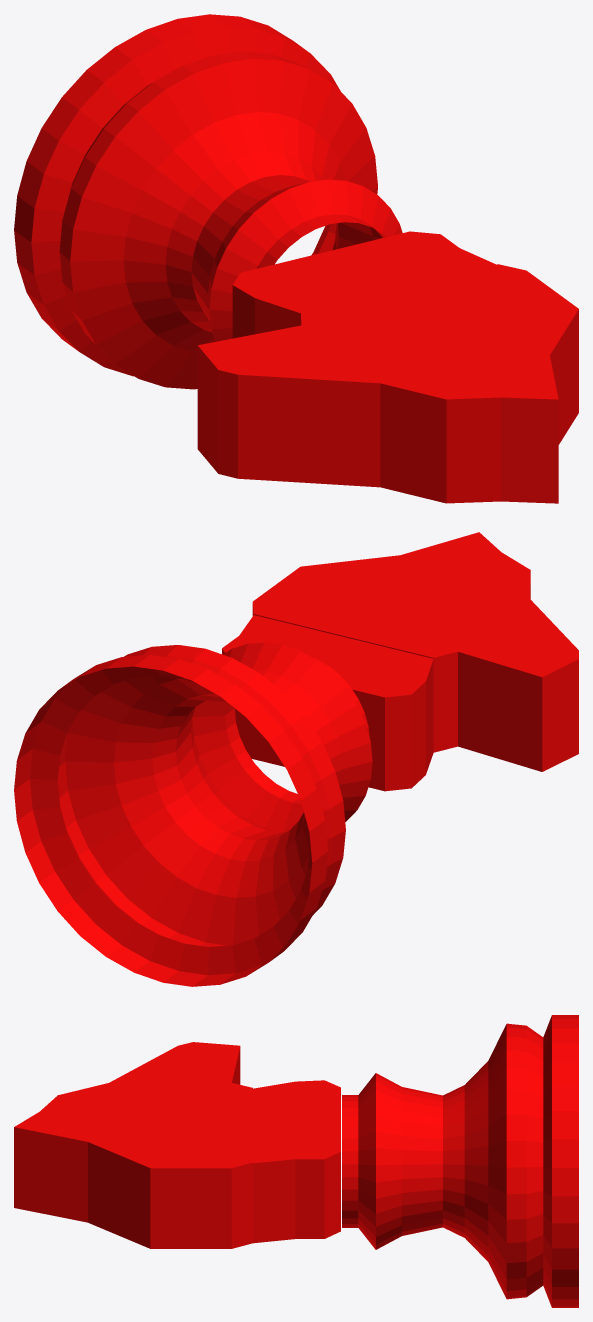
File: cavaloP.obj
The picture shows the model from 3 angles, top to bottom: view 1: azimuth 30°, elevation 25°; view 2: azimuth 150°, elevation 25°; view 3: azimuth 270°, elevation 25°; orthographic projection. The views are drawn at different scales.
Visible parts, largest first — view 1: Circle.004; view 2: Circle.004; view 3: Circle.004.
Part boxes in pixels (x1=…): Circle.004: x1=14, y1=14, x2=578, y2=503; Circle.004: x1=14, y1=532, x2=578, y2=986; Circle.004: x1=14, y1=1015, x2=578, y2=1307.
Bounding box in the file's own units: 1.48 × 1.31 × 2.52.
